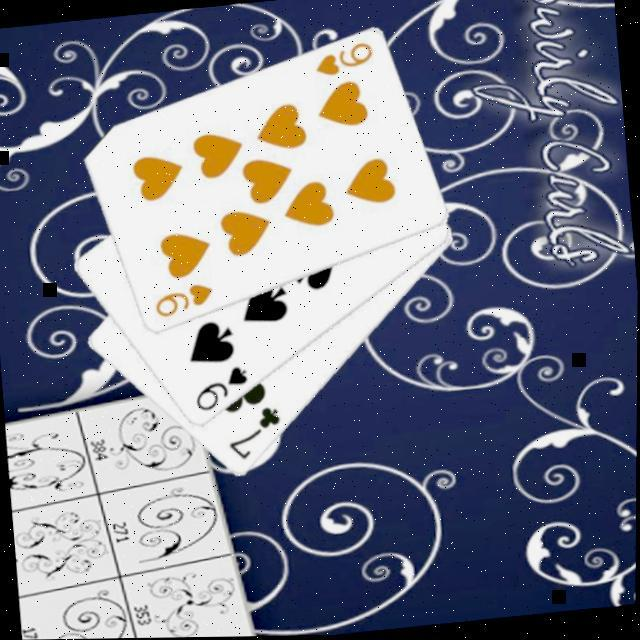7C: (224, 401, 289, 463)
9H: (151, 277, 219, 321), (312, 38, 379, 80)
9S: (191, 360, 255, 414)
